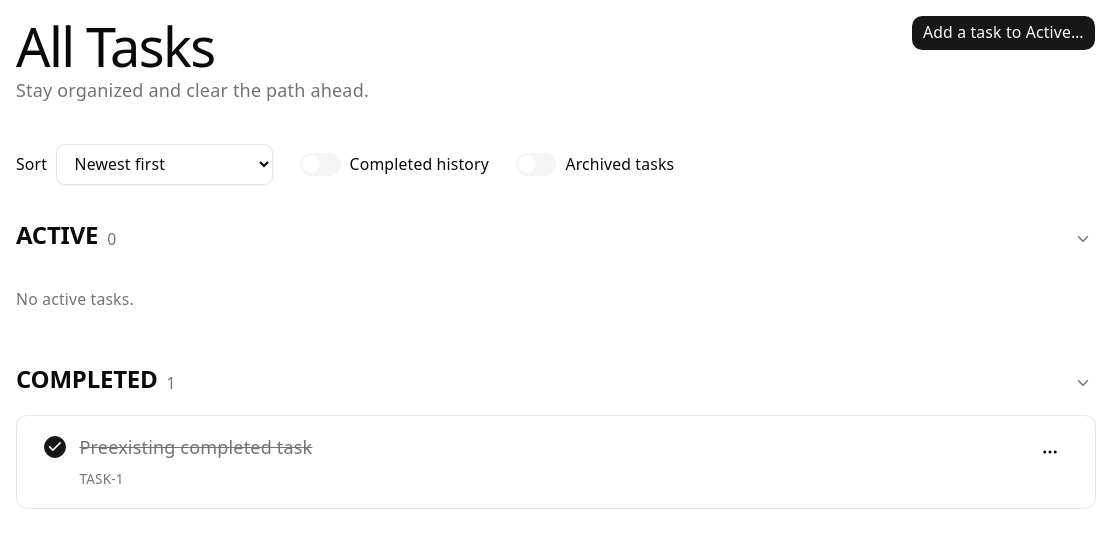
Test case: TaskWorkspace › failedReopenOfPreexistingCompletedTaskReturnsToCompleted
Click the checkbox named "Reopen TASK-1" at coordinates (55, 447), box [44, 436, 66, 458]
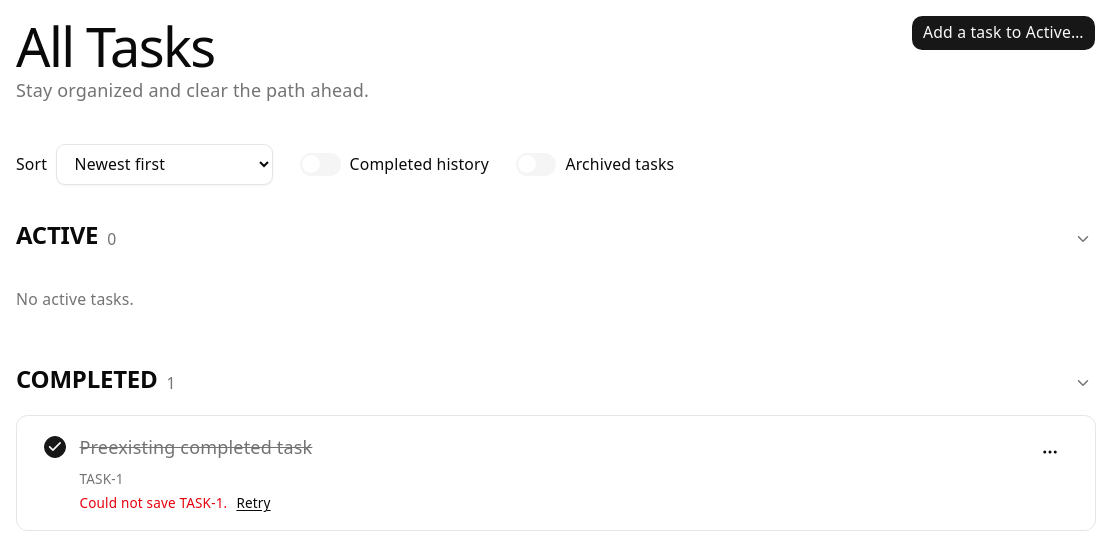
Check: the message shows "Could not save TASK-1.", box [80, 494, 271, 512]
